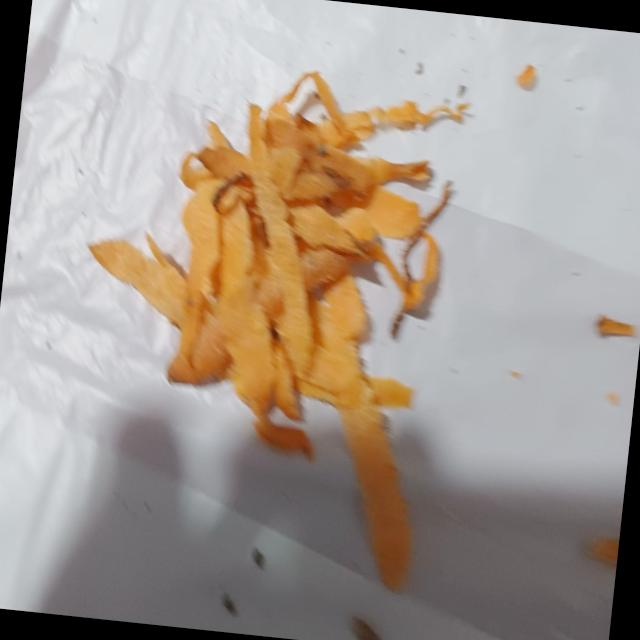organic: (56, 61, 470, 586)
